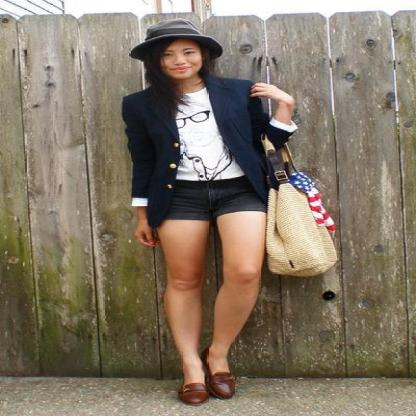bag: (257, 136, 338, 279)
hat: (129, 21, 221, 64)
jacket: (122, 77, 296, 224)
shirt: (176, 92, 243, 180)
shoe: (177, 368, 241, 405)
shorts: (168, 175, 268, 231)
